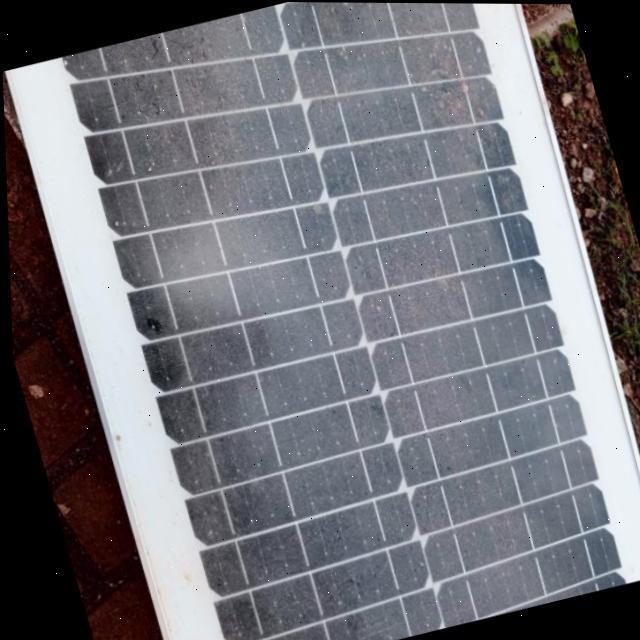Surface Contaminant: (53, 2, 640, 640)
